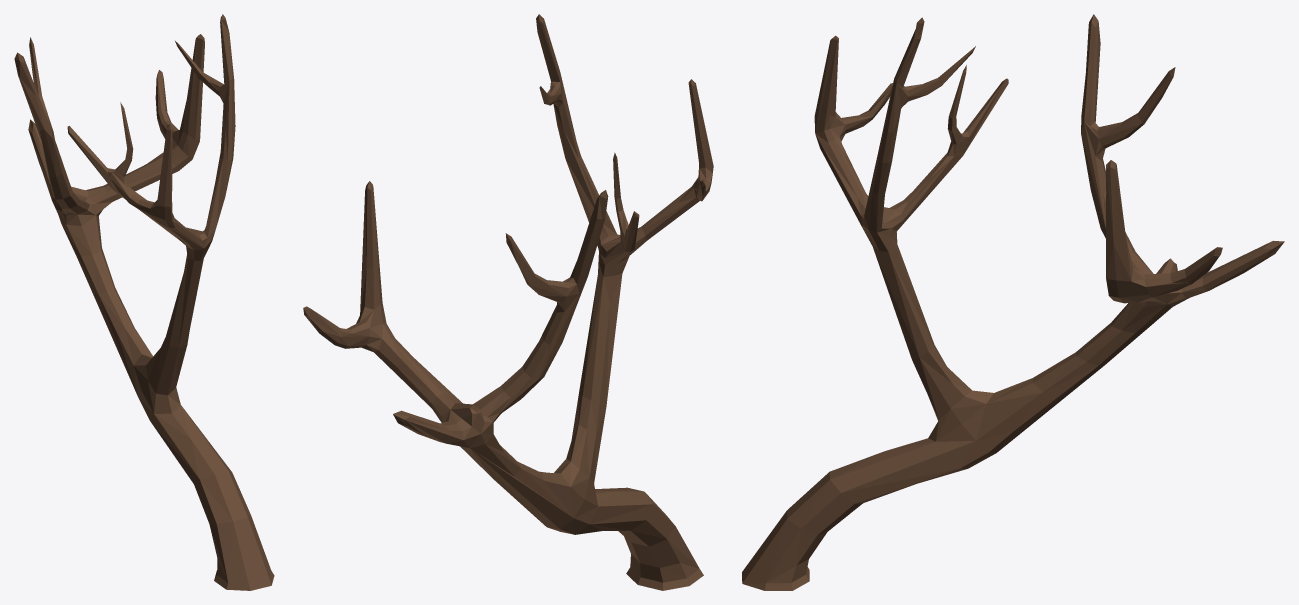
The model's file is Willow_Dead_2.glb.
The picture shows the model from 3 angles, left to right: view 1: azimuth 30°, elevation 25°; view 2: azimuth 150°, elevation 25°; view 3: azimuth 270°, elevation 25°; orthographic projection. The views are drawn at different scales.
Parts seen in each view (by area): view 1: Willow_Dead_2; view 2: Willow_Dead_2; view 3: Willow_Dead_2.
Boxes of the visible parts, <box> form: Willow_Dead_2: <box>14,14,274,590</box>; Willow_Dead_2: <box>303,14,713,590</box>; Willow_Dead_2: <box>742,14,1284,590</box>.
Bounding box in the file's own units: 1.17 × 2.83 × 2.39.
